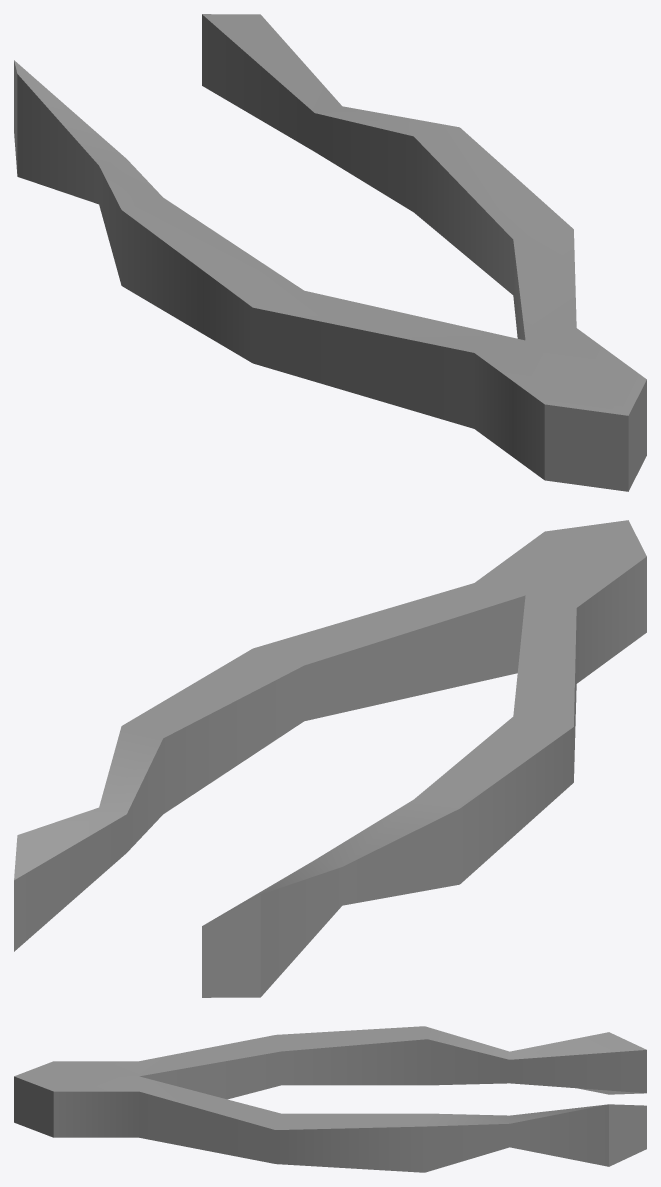
Rendered from Surgical Tool 01.fbx.
3 renders of one model, top to bottom at view 1: azimuth 30°, elevation 25°; view 2: azimuth 150°, elevation 25°; view 3: azimuth 270°, elevation 25°, orthographic. The views are drawn at different scales.
Visible parts, largest first — view 1: Surgical_Tool_01; view 2: Surgical_Tool_01; view 3: Surgical_Tool_01.
Boxes of the visible parts, <box> form: Surgical_Tool_01: <box>14,14,646,491</box>; Surgical_Tool_01: <box>14,520,646,997</box>; Surgical_Tool_01: <box>14,1026,646,1172</box>.
Bounding box in the file's own units: 22.36 × 6.5 × 59.58.
